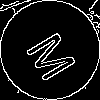M: (25, 25, 86, 84)
